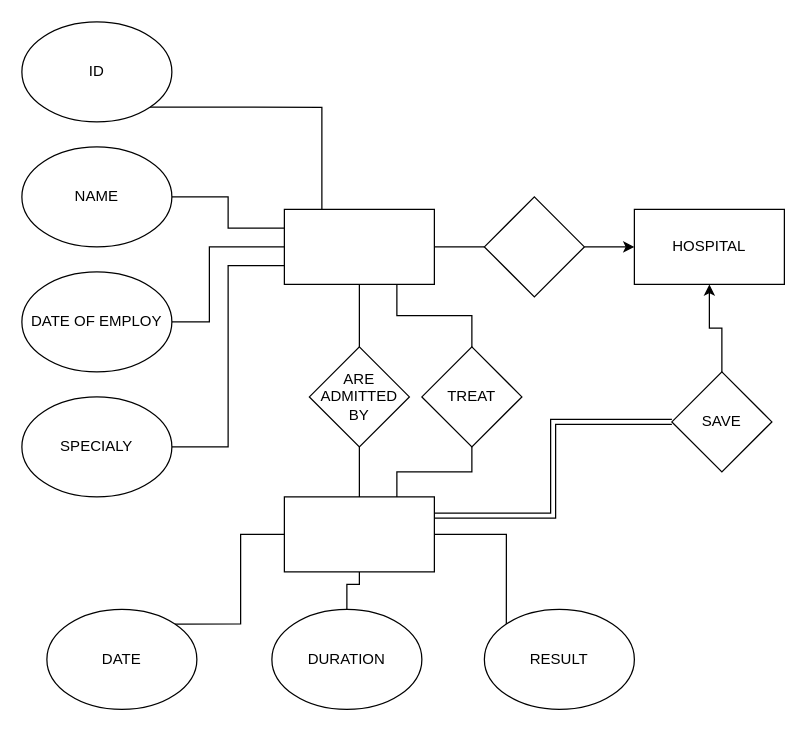
This 806x731 diagram has some shape labels left out. Each missing label, with the box of its shape:
DOCTORS: (283, 208, 434, 284)
HAS: (483, 196, 584, 297)
PATIENT: (283, 496, 434, 572)
